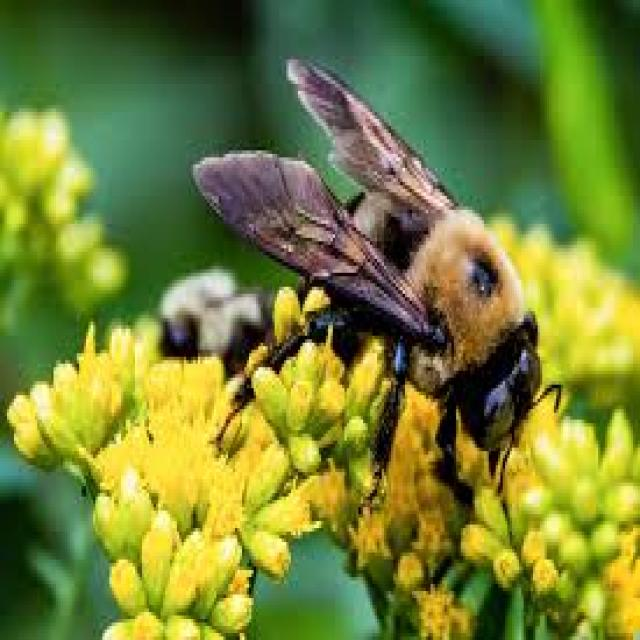Bees: (191, 53, 562, 524)
